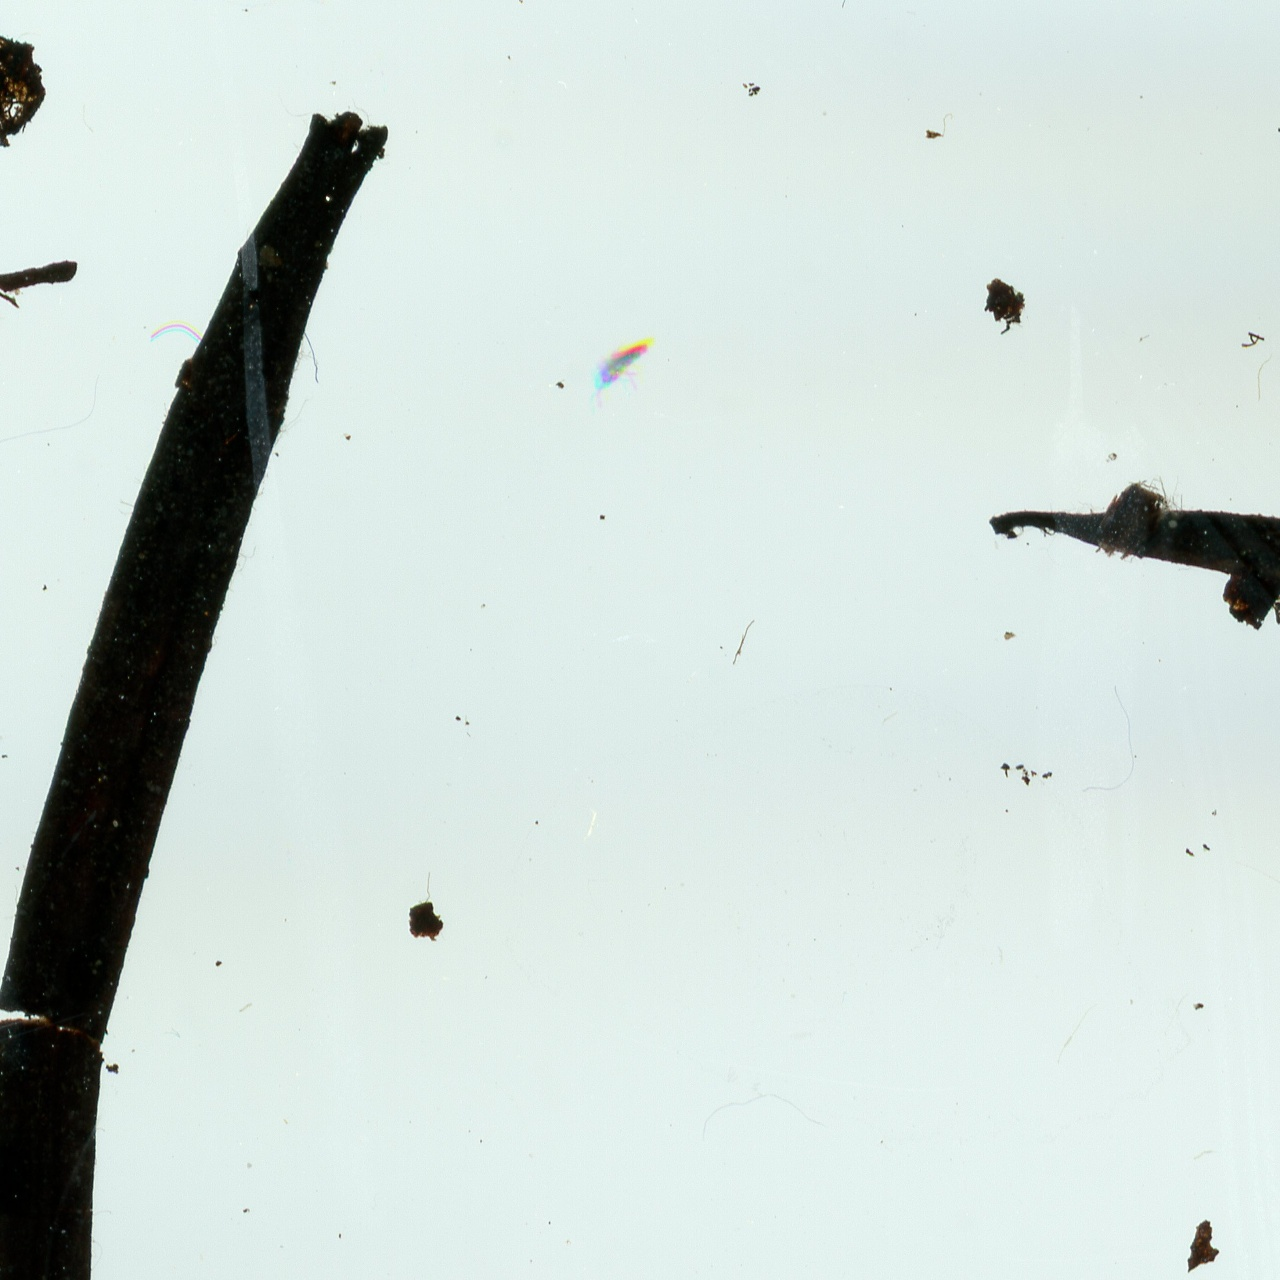arthropod: (595, 342, 651, 408)
